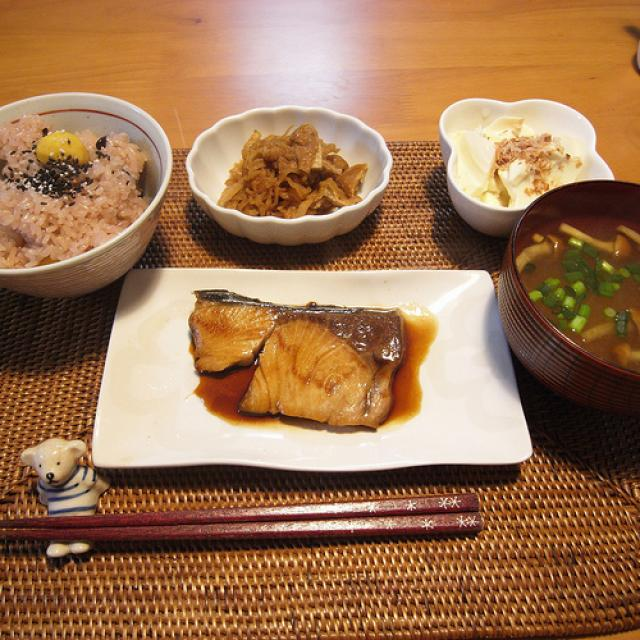熟制海鲜: (122, 366, 328, 594)
